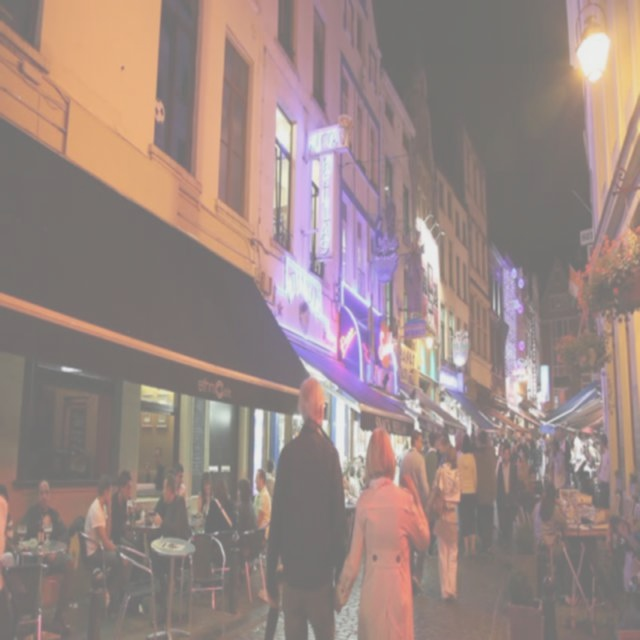pessoa: (262, 372, 349, 639), (334, 424, 430, 639), (17, 476, 74, 639), (425, 440, 465, 603), (398, 428, 430, 598), (82, 473, 126, 595), (530, 482, 572, 608), (204, 472, 239, 617), (606, 498, 640, 638), (152, 472, 182, 610), (454, 430, 479, 560), (474, 428, 498, 560), (566, 418, 601, 506), (0, 481, 18, 639), (152, 474, 190, 542), (489, 430, 558, 466), (495, 440, 516, 535), (110, 468, 134, 547), (338, 454, 368, 514), (252, 466, 272, 554), (434, 424, 464, 472), (514, 465, 558, 495), (596, 430, 612, 510), (236, 477, 258, 535), (142, 442, 166, 492), (494, 441, 506, 539), (548, 438, 566, 498), (556, 424, 572, 491), (424, 430, 439, 494), (196, 470, 213, 518), (172, 462, 188, 506), (264, 458, 276, 502), (396, 438, 410, 470), (558, 441, 566, 488), (470, 426, 480, 456), (422, 436, 431, 458)
